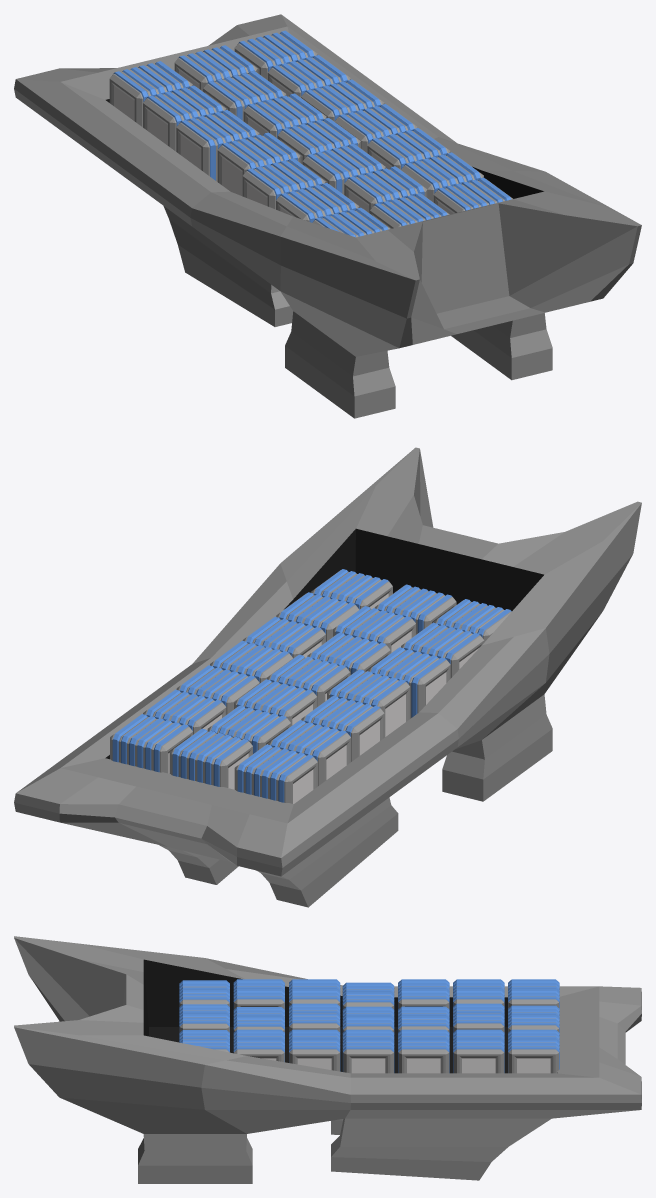
Rendered from transporter.fbx.
3 renders of one model, top to bottom at view 1: azimuth 30°, elevation 25°; view 2: azimuth 150°, elevation 25°; view 3: azimuth 270°, elevation 25°, orthographic. The views are drawn at different scales.
Visible parts, largest first — view 1: Cube, Cube.015, Cube.018, Cube.021, Cube.012, Cube.009, Cube.005, Cube.014, Cube.008, Cube.020, Cube.007, Cube.016 (+10 smaller); view 2: Cube, Cube.021, Cube.020, Cube.019, Cube.012, Cube.009, Cube.015, Cube.018, Cube.005, Cube.006, Cube.014, Cube.016 (+10 smaller); view 3: Cube, Cube.010, Cube.013, Cube.016, Cube.019, Cube.007, Cube.004, Cube.006, Cube.015, Cube.021, Cube.008, Cube.017 (+10 smaller).
Part boxes in pixels (x1,y1,x2,y2): Cube: [14, 14, 641, 418]; Cube.015: [176, 110, 259, 181]; Cube.018: [143, 85, 226, 151]; Cube.021: [109, 61, 192, 127]; Cube.012: [217, 132, 300, 196]; Cube.009: [242, 158, 325, 209]; Cube.005: [344, 166, 427, 213]; Cube.014: [243, 93, 326, 138]; Cube.008: [302, 143, 385, 194]; Cube.020: [174, 45, 257, 91]; Cube.007: [367, 128, 450, 169]; Cube.016: [267, 55, 350, 97]; Cube: [14, 447, 641, 907]; Cube.021: [234, 744, 317, 803]; Cube.020: [169, 728, 252, 789]; Cube.019: [110, 714, 192, 773]; Cube.012: [327, 669, 410, 737]; Cube.009: [367, 647, 450, 718]; Cube.015: [301, 695, 384, 761]; Cube.018: [268, 720, 351, 785]; Cube.005: [333, 606, 415, 652]; Cube.006: [401, 622, 484, 678]; Cube.014: [234, 679, 317, 725]; Cube.016: [143, 689, 226, 734]; Cube: [14, 936, 641, 1183]; Cube.010: [342, 1029, 394, 1073]; Cube.013: [398, 1029, 449, 1073]; Cube.016: [453, 1029, 504, 1073]; Cube.019: [508, 1029, 559, 1073]; Cube.007: [289, 1029, 340, 1071]; Cube.004: [233, 1029, 284, 1062]; Cube.006: [233, 979, 284, 1009]; Cube.015: [398, 979, 449, 1009]; Cube.021: [508, 979, 559, 1008]; Cube.008: [289, 1003, 340, 1032]; Cube.017: [453, 1003, 504, 1032].
Bounding box in the file's own units: 285 × 214 × 699.
